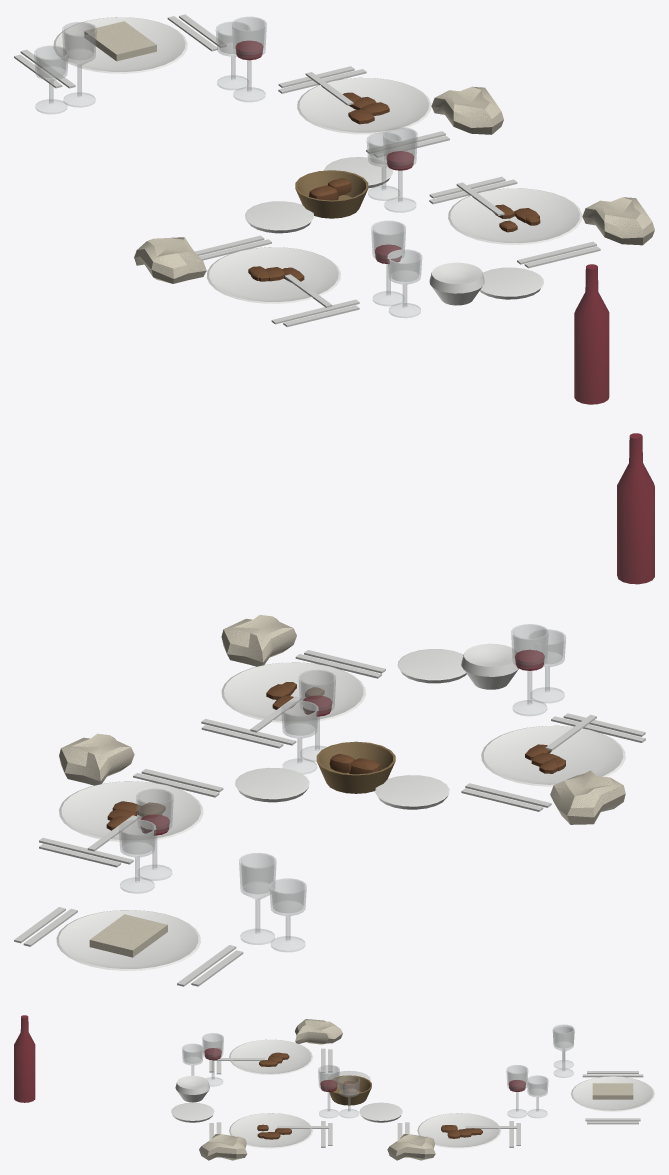
File: room_dining__晚饭未收.gltf
3 views of the same model, one above another, from view 1: azimuth 30°, elevation 25°; view 2: azimuth 150°, elevation 25°; view 3: azimuth 270°, elevation 25° (orthographic). The views are drawn at different scales.
Parts seen in each view (by area): view 1: 餐厅·晚饭未收·餐具, 餐厅·晚饭未收·汤盆、面包与酒瓶; view 2: 餐厅·晚饭未收·餐具, 餐厅·晚饭未收·汤盆、面包与酒瓶; view 3: 餐厅·晚饭未收·餐具, 餐厅·晚饭未收·汤盆、面包与酒瓶.
Boxes of the visible parts, x1,y1,x2,y2 form: 餐厅·晚饭未收·餐具: [14, 14, 654, 327]; 餐厅·晚饭未收·汤盆、面包与酒瓶: [295, 170, 609, 404]; 餐厅·晚饭未收·餐具: [14, 615, 645, 986]; 餐厅·晚饭未收·汤盆、面包与酒瓶: [316, 433, 654, 793]; 餐厅·晚饭未收·餐具: [171, 1019, 654, 1160]; 餐厅·晚饭未收·汤盆、面包与酒瓶: [14, 1015, 371, 1105].
Size of the model in its own units: 1.07 by 0.3187 by 2.21.
7 materials, 1 textured.
